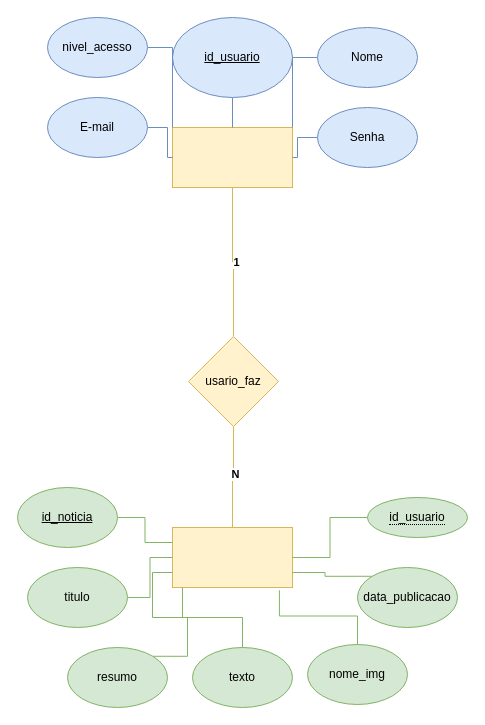
Image size: 485x725. Some labels were removed from this diagram. The centre of each missing label's shape, as x and y in pixels:
NOTICIA: the point at 232,557
USUARIO: the point at 232,157
